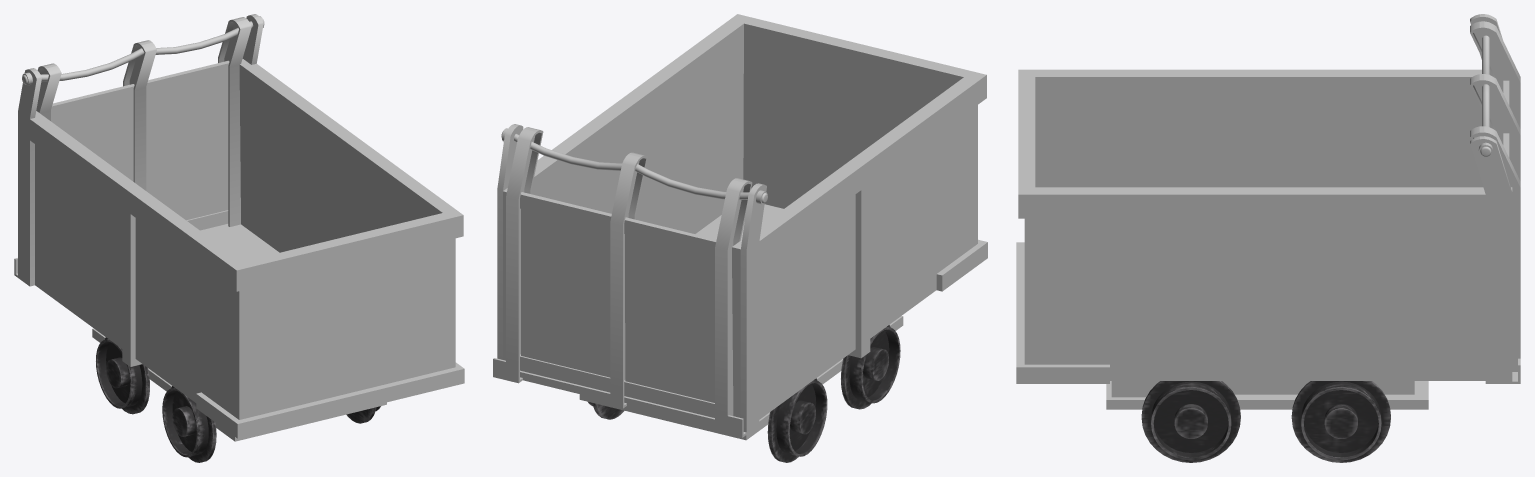
The model's file is TRAIN.fbx.
The picture shows the model from 3 angles, left to right: view 1: azimuth 30°, elevation 25°; view 2: azimuth 150°, elevation 25°; view 3: azimuth 270°, elevation 25°; orthographic projection. The views are drawn at different scales.
Visible parts, largest first — view 1: Cart; view 2: Cart; view 3: Cart.
Boxes of the visible parts, left/top/right/bottom form: Cart: left=14, top=14, right=464, bottom=462; Cart: left=493, top=14, right=987, bottom=462; Cart: left=1016, top=14, right=1520, bottom=462.
Size of the model in its own units: 145 by 176 by 235.
